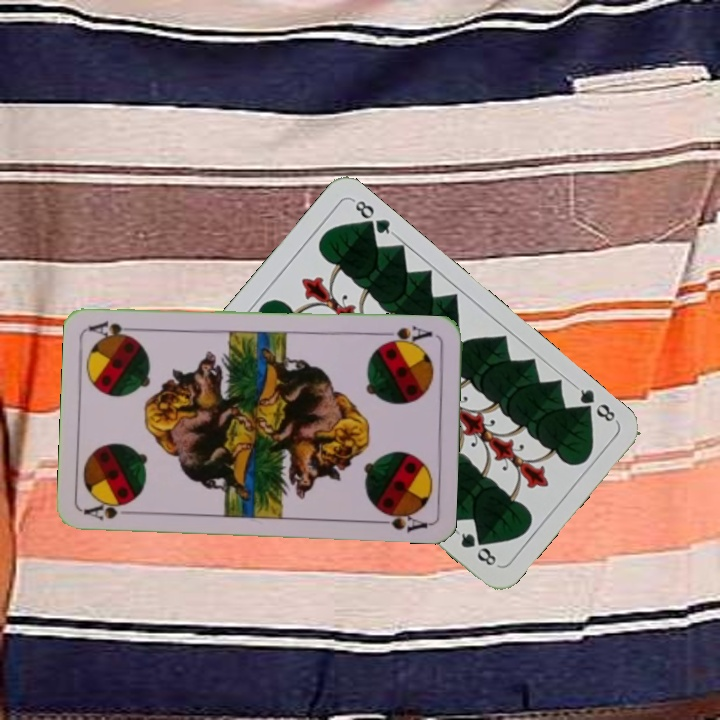G8: (571, 381, 620, 425)
SA: (378, 321, 435, 349), (81, 495, 140, 522)
